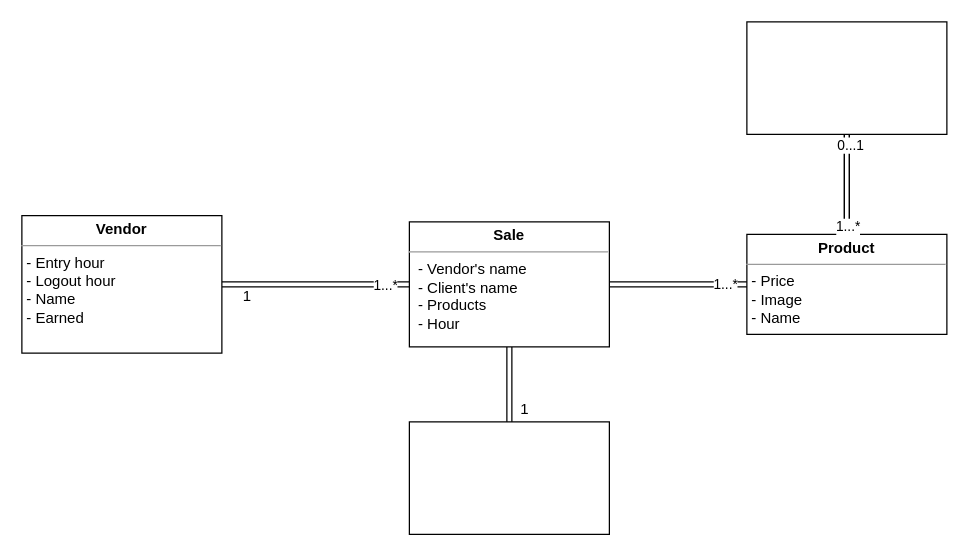
This 969x556 diagram has some shape labels left out. Each missing label, with the centre of its shape:
Client - Name: point 508,477
Offer - Combo - Quantity: point 846,77
